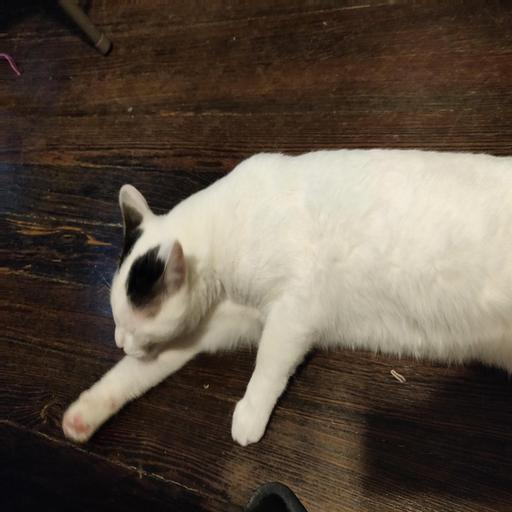cat: (63, 114, 391, 442)
